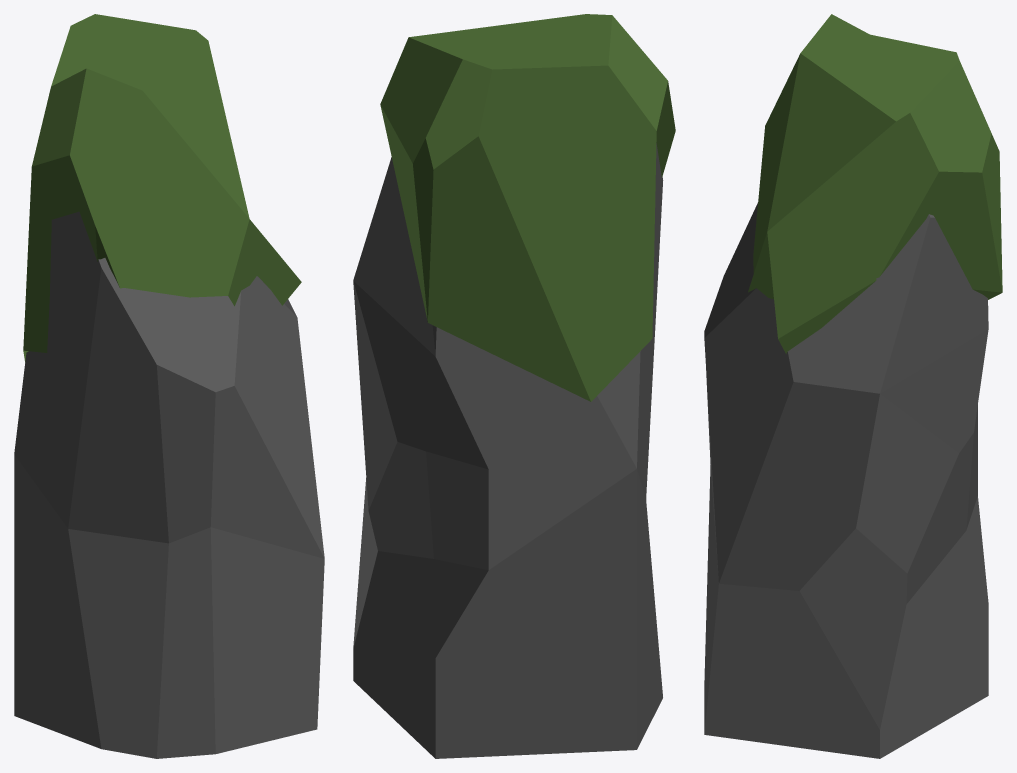
Rendered from Rock_New_1_Mocha_3.fbx.
3 renders of one model, left to right at view 1: azimuth 30°, elevation 25°; view 2: azimuth 150°, elevation 25°; view 3: azimuth 270°, elevation 25°, orthographic. The views are drawn at different scales.
Visible parts, largest first — view 1: Cylinder, Cylinder.001; view 2: Cylinder, Cylinder.001; view 3: Cylinder, Cylinder.001.
Part boxes in pixels (x1,y1,x2,y2): Cylinder: (14,211,324,758); Cylinder.001: (23,14,301,362); Cylinder: (353,143,663,758); Cylinder.001: (380,14,675,401); Cylinder: (704,203,988,758); Cylinder.001: (748,14,1002,353).
Bounding box in the file's own units: 122 × 285 × 120.
